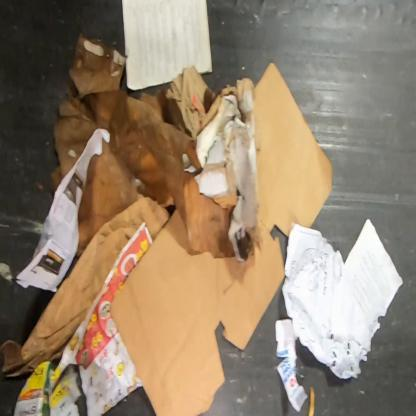cardboard: (108, 61, 334, 415), (0, 191, 172, 380), (193, 76, 255, 212), (164, 64, 218, 140)
